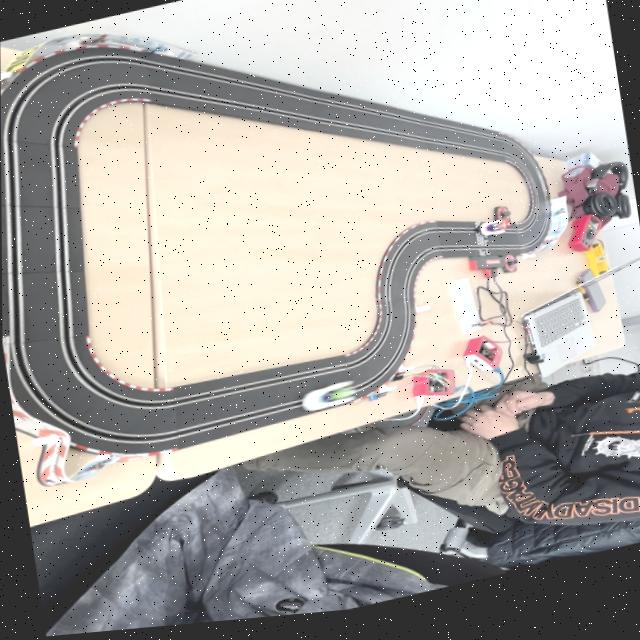mario: (478, 225, 514, 250)
yoshi: (295, 381, 363, 424)
